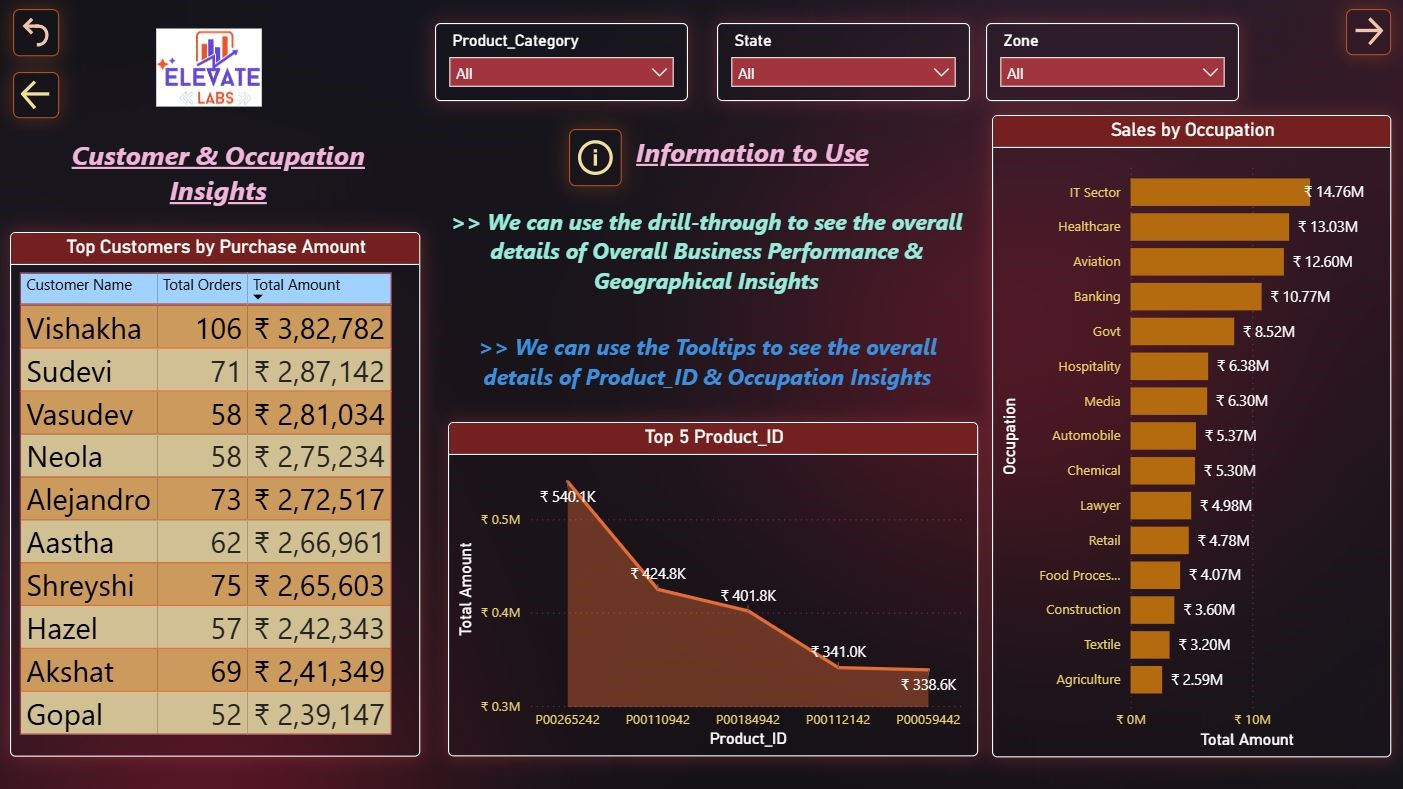

The page's visual inventory and layout, read from the dashboard file:
{"tool":"powerbi","page":{"name":"Customer & Occupation Insights","canvas":[1280,720],"ordinal":1},"visuals":[{"type":"clusteredBarChart","title":"Sales by Occupation","fields":{"Y":["Sum(Diwali Sales Data.Amount)"],"Category":["Diwali Sales Data.Occupation"]},"box":[901.6,105.9,363,583.9],"z":0},{"type":"slicer","title":"Avg Order Value","fields":{"Values":["Diwali Sales Data.Product_Category"]},"box":[395.7,22.4,229.5,71],"z":1000},{"type":"slicer","title":"Avg Order Value","fields":{"Values":["Diwali Sales Data.State"]},"box":[651.5,22.4,229.5,71],"z":2000},{"type":"slicer","title":"Avg Order Value","fields":{"Values":["Diwali Sales Data.Zone"]},"box":[896.6,22.4,229.5,71],"z":3000},{"type":"tableEx","title":"Top Customers by Purchase Amount","fields":{"Values":["Diwali Sales Data.Cust_name","Sum(Diwali Sales Data.Orders)","Sum(Diwali Sales Data.Amount)"]},"box":[9.1,212.7,373,477.1],"z":4000},{"type":"areaChart","title":"Top 5 Product_ID ","fields":{"Y":["Sum(Diwali Sales Data.Amount)"],"Category":["Diwali Sales Data.Product_ID"]},"box":[407.4,385.6,481.6,304.2],"z":5000},{"type":"actionButton","box":[11.8,10.1,41.6,42.5],"z":6000},{"type":"actionButton","box":[1223.9,10,40.7,41.6],"z":7000},{"type":"actionButton","box":[11.8,67.1,41.6,41.6],"z":8000},{"type":"image","box":[120.4,22.6,139.4,81.5],"z":9000},{"type":"actionButton","box":[45.3,105,306,103.2],"z":10000},{"type":"actionButton","box":[403.7,183.8,477.1,91.4],"z":11000},{"type":"actionButton","box":[404.6,283.3,477.1,91.4],"z":12000},{"type":"actionButton","box":[561.2,113.2,246.2,51.6],"z":13000},{"type":"actionButton","box":[516.9,119.5,48,51.6],"z":14000}]}

Visuals, with their boxes in screenshot pixels (x1, y1, x2, y2), scaled from the page's 1280x720 canvas onto the 1403x789 screenshot:
"Sales by Occupation" clusteredBarChart: bbox=[988, 116, 1386, 756]
"Avg Order Value" slicer: bbox=[434, 25, 685, 102]
"Avg Order Value" slicer: bbox=[714, 25, 966, 102]
"Avg Order Value" slicer: bbox=[983, 25, 1234, 102]
"Top Customers by Purchase Amount" tableEx: bbox=[10, 233, 419, 756]
"Top 5 Product_ID " areaChart: bbox=[447, 423, 974, 756]
actionButton: bbox=[13, 11, 59, 58]
actionButton: bbox=[1342, 11, 1386, 57]
actionButton: bbox=[13, 74, 59, 119]
image: bbox=[132, 25, 285, 114]
actionButton: bbox=[50, 115, 385, 228]
actionButton: bbox=[442, 201, 965, 302]
actionButton: bbox=[443, 310, 966, 411]
actionButton: bbox=[615, 124, 885, 181]
actionButton: bbox=[567, 131, 619, 187]
